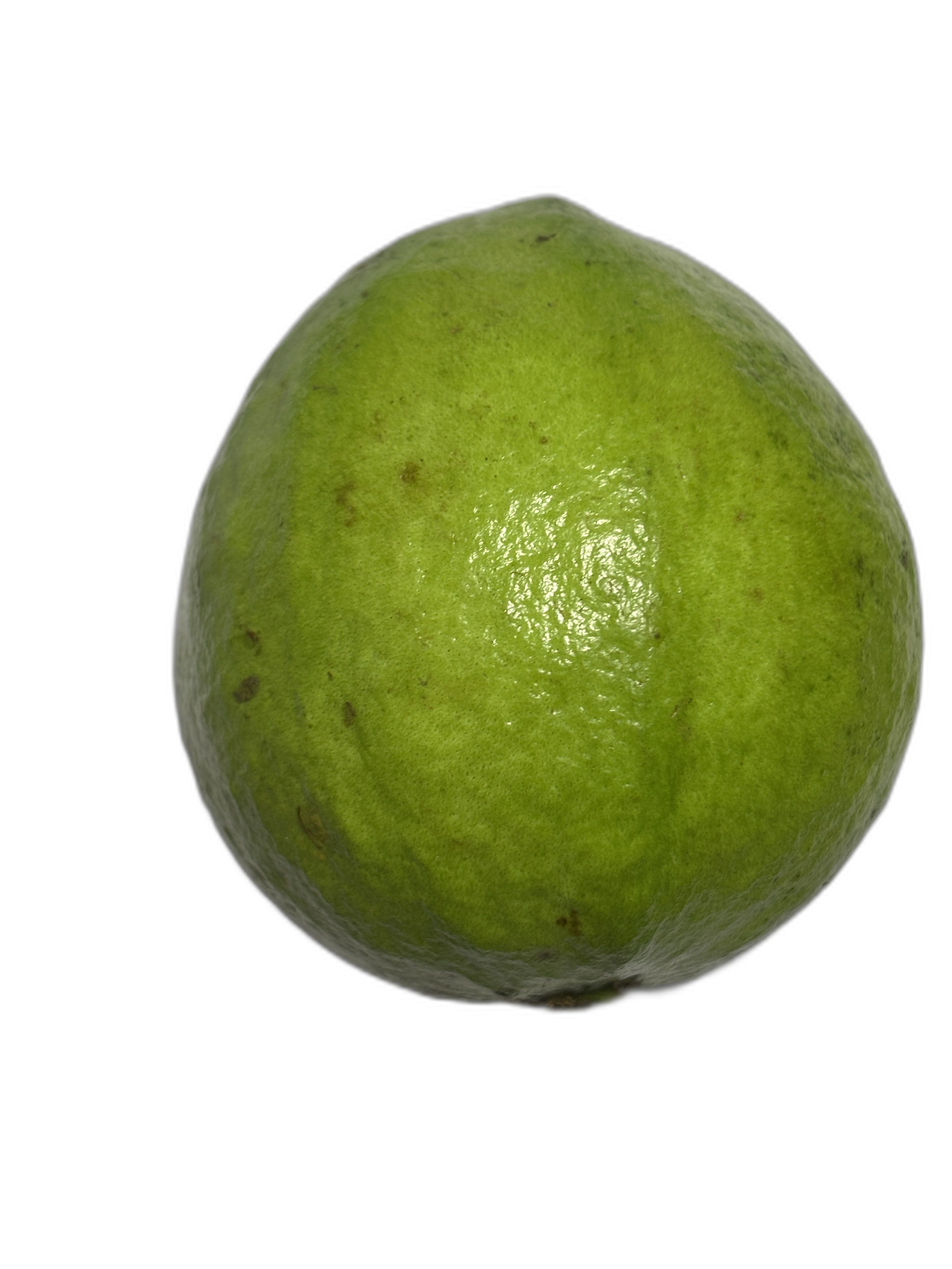guava: (50, 54, 867, 1126)
